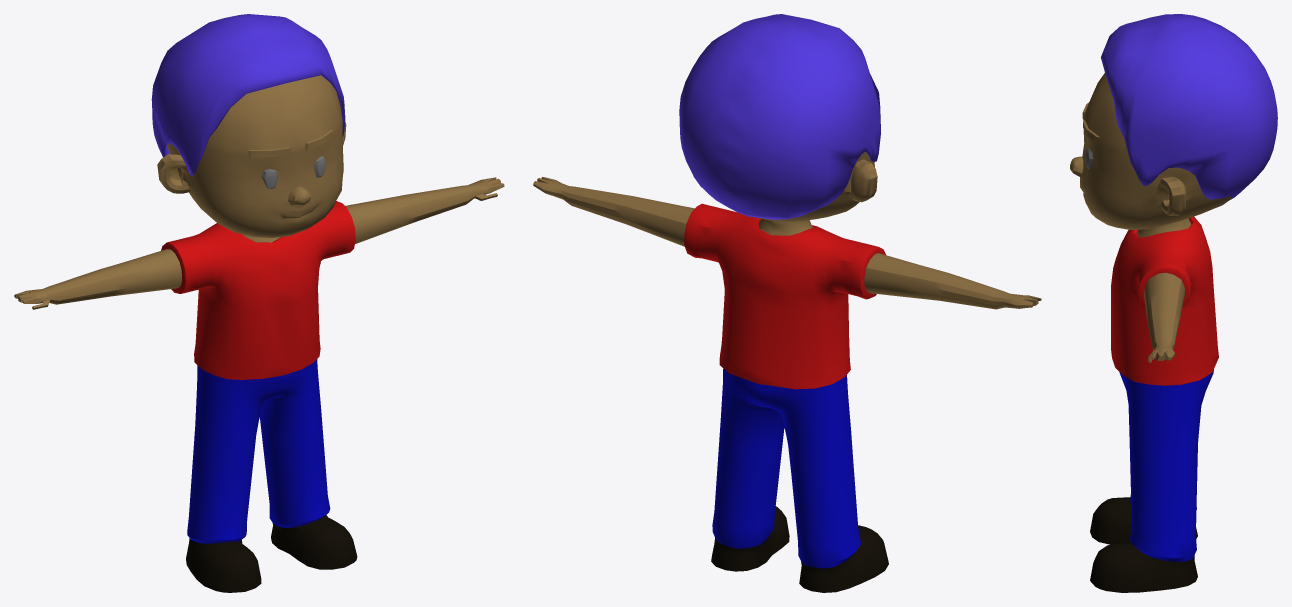
File: tyrone.fbx
3 views of the same model, side by side, from view 1: azimuth 30°, elevation 25°; view 2: azimuth 150°, elevation 25°; view 3: azimuth 270°, elevation 25° (orthographic). The views are drawn at different scales.
Parts seen in each view (by area): view 1: body_low, tshirt_low, pants_low, Black_hairstyle_boy, shoes_low; view 2: Black_hairstyle_boy, tshirt_low, pants_low, body_low, shoes_low; view 3: Black_hairstyle_boy, body_low, tshirt_low, pants_low, shoes_low.
Part boxes in pixels (box(x1,y1,x2,y2)): body_low: box(14, 75, 504, 309); tshirt_low: box(161, 201, 355, 379); pants_low: box(187, 359, 330, 543); Black_hairstyle_boy: box(151, 14, 345, 175); shoes_low: box(186, 515, 357, 592); Black_hairstyle_boy: box(679, 14, 880, 219); tshirt_low: box(684, 203, 885, 389); pants_low: box(712, 368, 860, 568); body_low: box(533, 152, 1041, 309); shoes_low: box(711, 506, 888, 592); Black_hairstyle_boy: box(1100, 14, 1277, 199); body_low: box(1070, 73, 1231, 362); tshirt_low: box(1111, 216, 1218, 385); pants_low: box(1119, 369, 1213, 561); shoes_low: box(1090, 497, 1197, 592).
Size of the model in its own units: 106 by 111 by 39.27.
